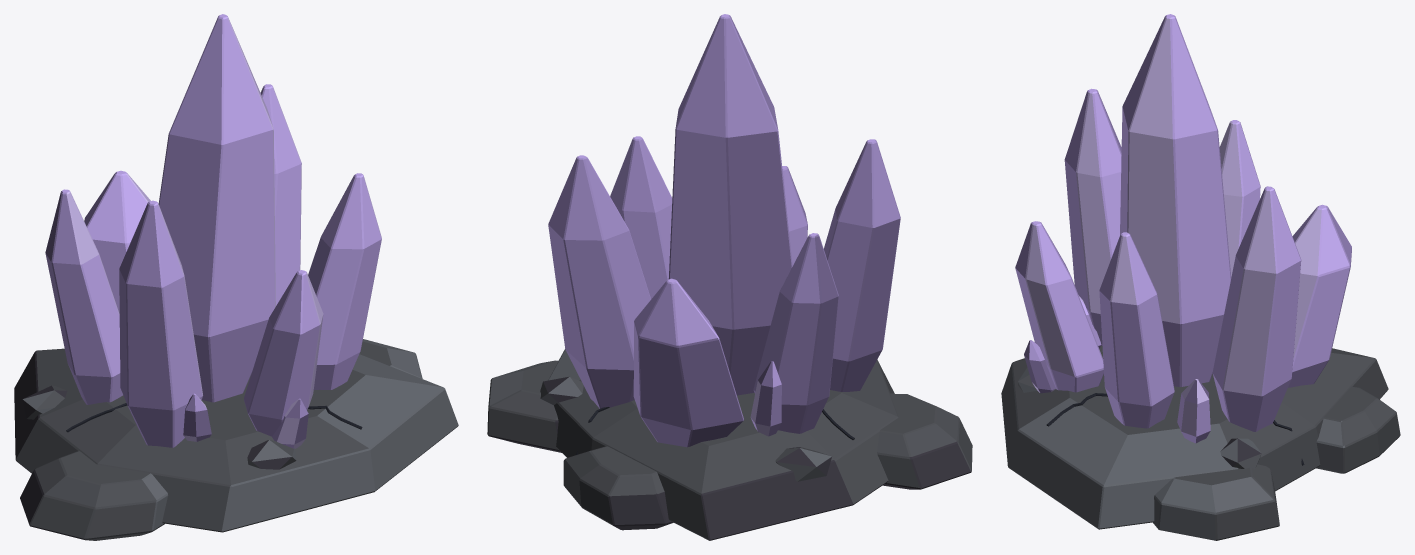
The model's file is BH_ORE_O22_Prisma_Galactico_V02.glb.
3 renders of one model, left to right at view 1: azimuth 30°, elevation 25°; view 2: azimuth 150°, elevation 25°; view 3: azimuth 270°, elevation 25°, orthographic. The views are drawn at different scales.
Visible parts, largest first — view 1: Bedrock | primary.003, Hero prism.003, O22 | shard 6.003, O22 | shard 5.003, O22 | shard 2.003, Bedrock | shoulder 1.003, O22 | shard 1.003, O22 | shard 3.003, O22 | shard 4.003, Bedrock | shoulder 2.003, O22 | V02 secondary crystal 3.001, O22 | V02 embedded stone ledge.004 (+2 smaller); view 2: Hero prism.003, Bedrock | primary.003, O22 | shard 3.003, O22 | shard 4.003, O22 | shard 6.003, O22 | shard 5.003, Bedrock | shoulder 1.003, Bedrock | shoulder 3.003, O22 | shard 2.003, Bedrock | shoulder 2.003, O22 | V02 secondary crystal 2.001, O22 | shard 1.003 (+2 smaller); view 3: Bedrock | primary.003, Hero prism.003, O22 | shard 3.003, O22 | shard 2.003, O22 | shard 6.003, O22 | shard 1.003, Bedrock | shoulder 2.003, O22 | shard 4.003, Bedrock | shoulder 3.003, O22 | shard 5.003, O22 | V02 secondary crystal 1.001, O22 | V02 secondary crystal 3.001 (+1 smaller).
Boxes of the visible parts, bbox=[...] form: Bedrock | primary.003: bbox=[14, 348, 458, 532]; Hero prism.003: bbox=[158, 14, 275, 402]; O22 | shard 6.003: bbox=[119, 200, 202, 447]; O22 | shard 5.003: bbox=[45, 189, 122, 404]; O22 | shard 2.003: bbox=[308, 173, 381, 389]; Bedrock | shoulder 1.003: bbox=[20, 451, 167, 540]; O22 | shard 1.003: bbox=[244, 270, 323, 436]; O22 | shard 3.003: bbox=[260, 84, 301, 305]; O22 | shard 4.003: bbox=[84, 170, 150, 313]; Bedrock | shoulder 2.003: bbox=[359, 339, 422, 378]; O22 | V02 secondary crystal 3.001: bbox=[272, 398, 308, 448]; O22 | V02 embedded stone ledge.004: bbox=[247, 440, 296, 469]; Hero prism.003: bbox=[668, 14, 792, 395]; Bedrock | primary.003: bbox=[548, 349, 898, 540]; O22 | shard 3.003: bbox=[548, 155, 650, 408]; O22 | shard 4.003: bbox=[633, 278, 743, 447]; O22 | shard 6.003: bbox=[824, 139, 900, 391]; O22 | shard 5.003: bbox=[753, 233, 838, 433]; Bedrock | shoulder 1.003: bbox=[877, 393, 972, 489]; Bedrock | shoulder 3.003: bbox=[563, 446, 673, 530]; O22 | shard 2.003: bbox=[610, 136, 672, 299]; Bedrock | shoulder 2.003: bbox=[487, 360, 561, 452]; O22 | V02 secondary crystal 2.001: bbox=[750, 361, 781, 436]; O22 | shard 1.003: bbox=[782, 166, 807, 265]; Bedrock | primary.003: bbox=[1001, 346, 1388, 529]; Hero prism.003: bbox=[1120, 14, 1231, 386]; O22 | shard 3.003: bbox=[1212, 186, 1301, 431]; O22 | shard 2.003: bbox=[1099, 232, 1174, 428]; O22 | shard 6.003: bbox=[1064, 88, 1121, 345]; O22 | shard 1.003: bbox=[1015, 221, 1103, 392]; Bedrock | shoulder 2.003: bbox=[1153, 464, 1279, 540]; O22 | shard 4.003: bbox=[1288, 204, 1351, 387]; Bedrock | shoulder 3.003: bbox=[1316, 386, 1400, 473]; O22 | shard 5.003: bbox=[1219, 120, 1260, 276]; O22 | V02 secondary crystal 1.001: bbox=[1177, 379, 1210, 443]; O22 | V02 secondary crystal 3.001: bbox=[1024, 340, 1055, 393].
Size of the model in its own units: 3.15 by 3.08 by 2.55.
